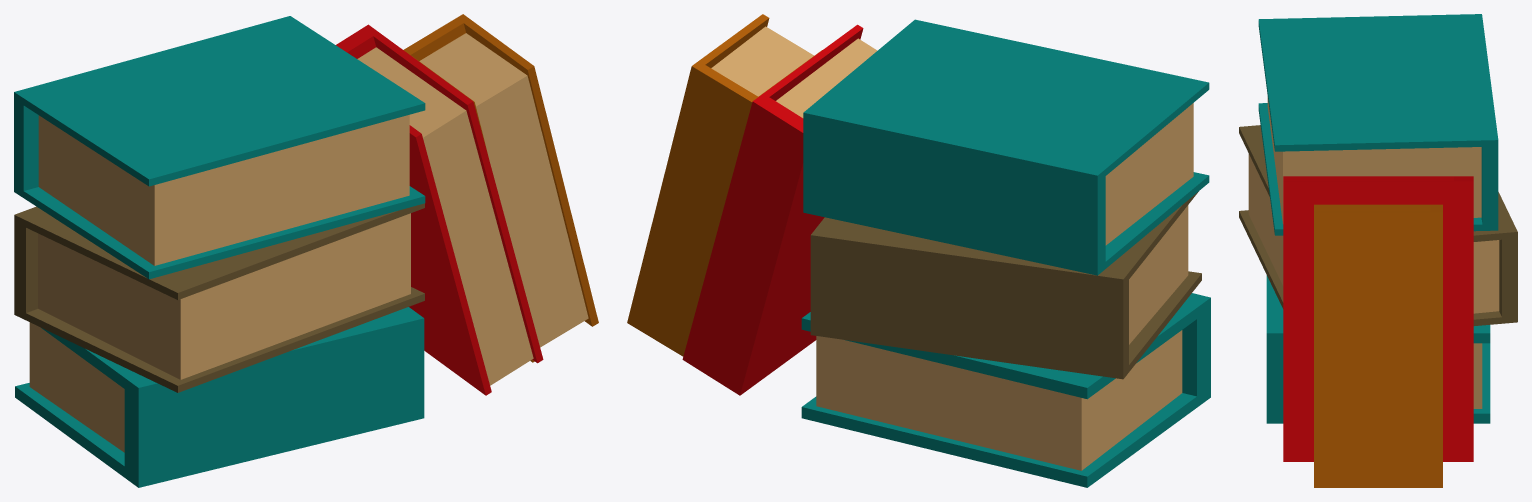
File: books.fbx
3 renders of one model, left to right at view 1: azimuth 30°, elevation 25°; view 2: azimuth 150°, elevation 25°; view 3: azimuth 270°, elevation 25°, orthographic. The views are drawn at different scales.
Visible parts, largest first — view 1: Cube.005; view 2: Cube.005; view 3: Cube.005.
Part boxes in pixels (x1=…): Cube.005: x1=14, y1=14, x2=598, y2=487; Cube.005: x1=627, y1=14, x2=1210, y2=487; Cube.005: x1=1239, y1=14, x2=1517, y2=487.
Size of the model in its own units: 534 by 315 by 282.
